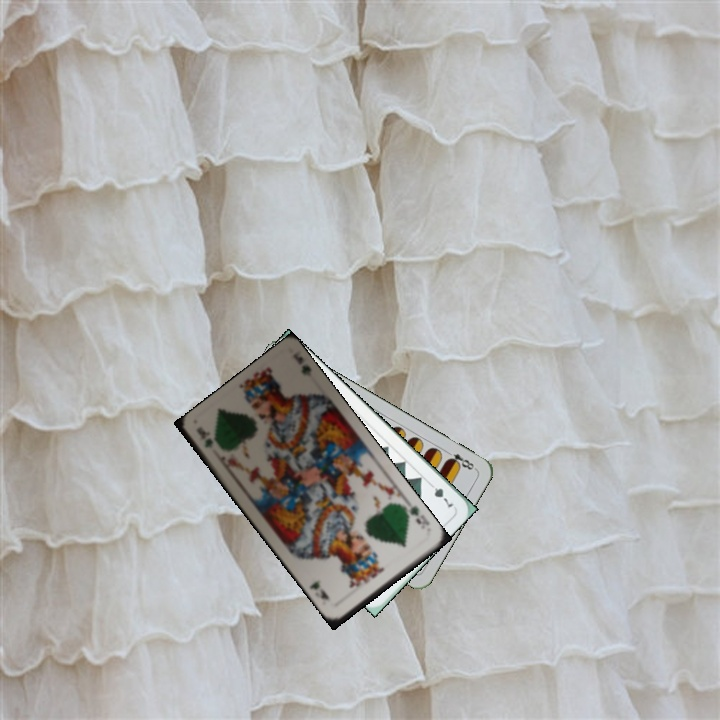E8: (441, 446, 478, 473)
G7: (424, 478, 456, 511)
GK: (401, 502, 432, 528), (192, 423, 216, 451)
